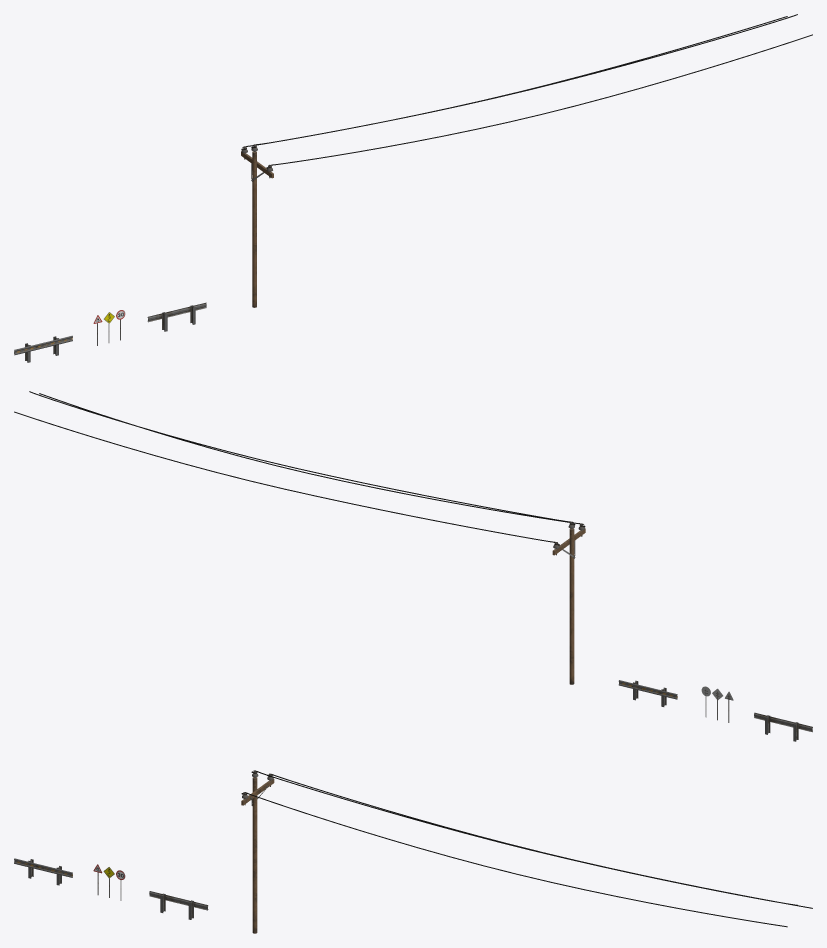
File: highway_props.glb
3 renders of one model, top to bottom at view 1: azimuth 30°, elevation 25°; view 2: azimuth 150°, elevation 25°; view 3: azimuth 330°, elevation 25°, orthographic.
Visible parts, largest first — view 1: pylon_cable, pylon; view 2: pylon_cable, pylon; view 3: pylon_cable, pylon, crash_barrier_a, crash_barrier_b.
Boxes of the visible parts, x1=… form: pylon_cable: x1=247, y1=14, x2=812, y2=165; pylon: x1=241, y1=144, x2=273, y2=307; pylon_cable: x1=14, y1=391, x2=578, y2=542; pylon: x1=552, y1=521, x2=585, y2=684; pylon_cable: x1=247, y1=771, x2=812, y2=927; pylon: x1=241, y1=770, x2=274, y2=933; crash_barrier_a: x1=149, y1=891, x2=208, y2=919; crash_barrier_b: x1=14, y1=858, x2=72, y2=885.
Size of the model in its own units: 58.41 by 11.56 by 4.
4 materials, 3 textured.
